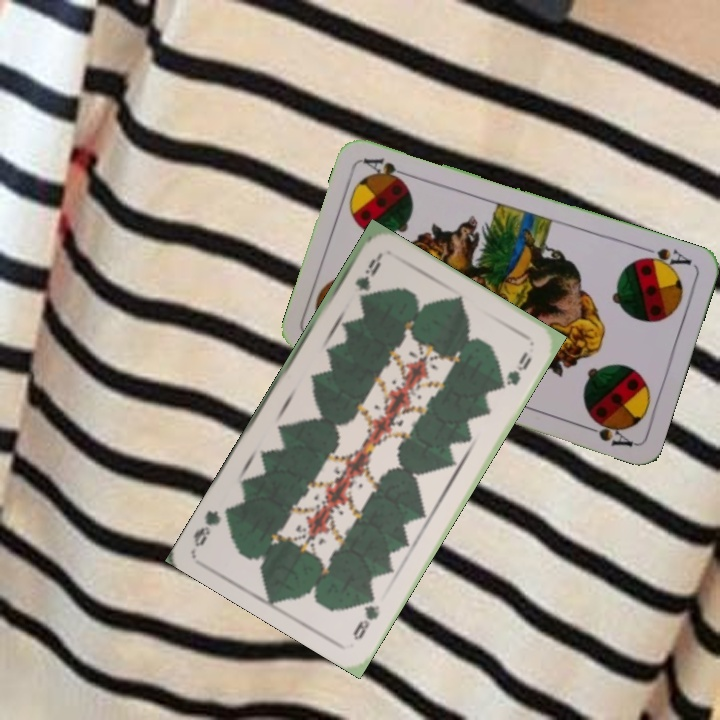G9: (348, 589, 383, 643), (350, 251, 384, 303)
SA: (634, 242, 695, 274)
